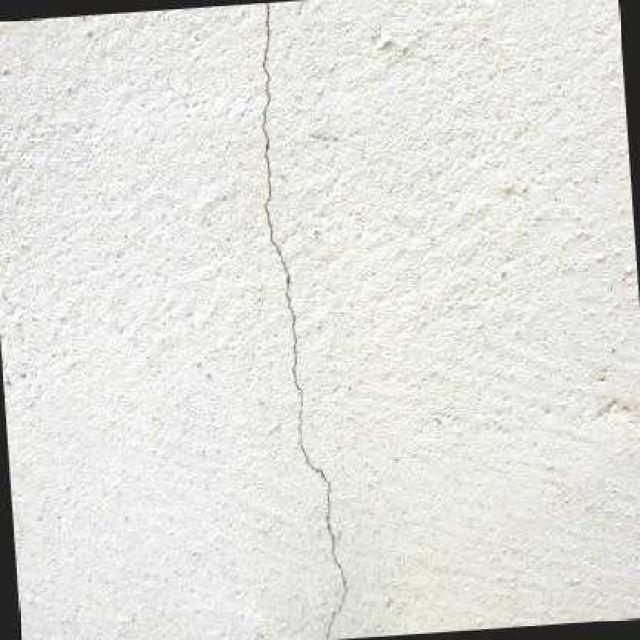D00: (262, 3, 331, 511), (327, 513, 348, 640)
